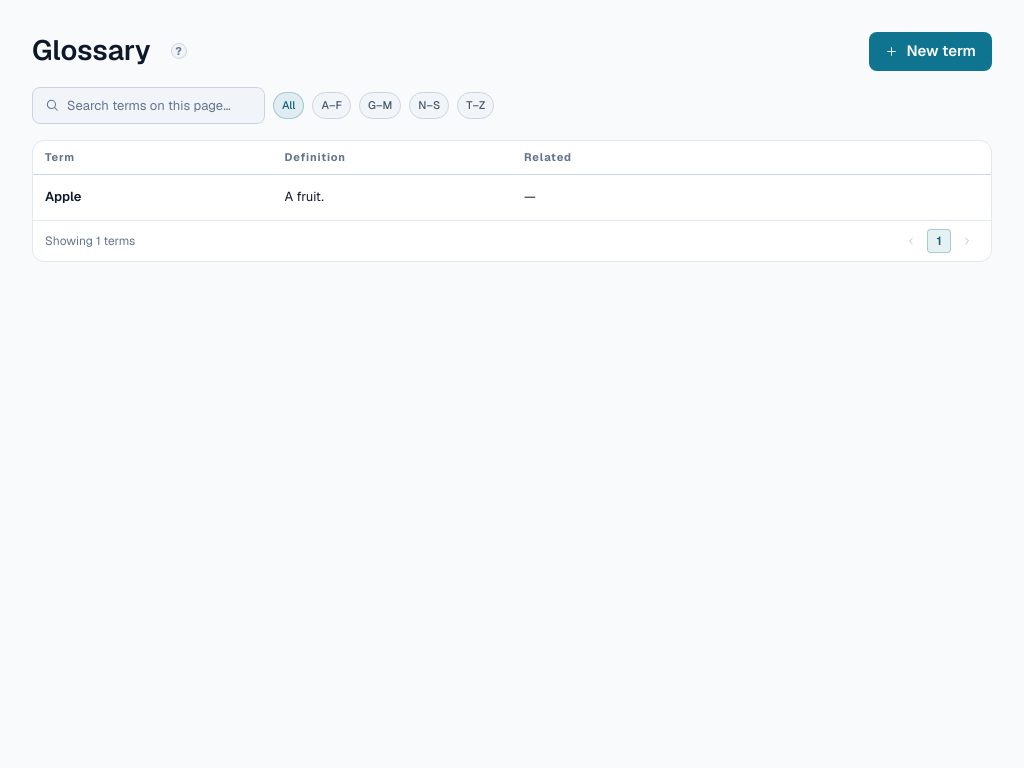
Test case: GlossaryPage › creates a new term via the drawer and shows a success toast (AC: real CE-WRITE-1 create)
The image size is (1024, 768).
Expected: the text "Apple" is shown, [45, 187, 81, 207]
Click the button "New term" at (931, 51), box [869, 32, 992, 70]
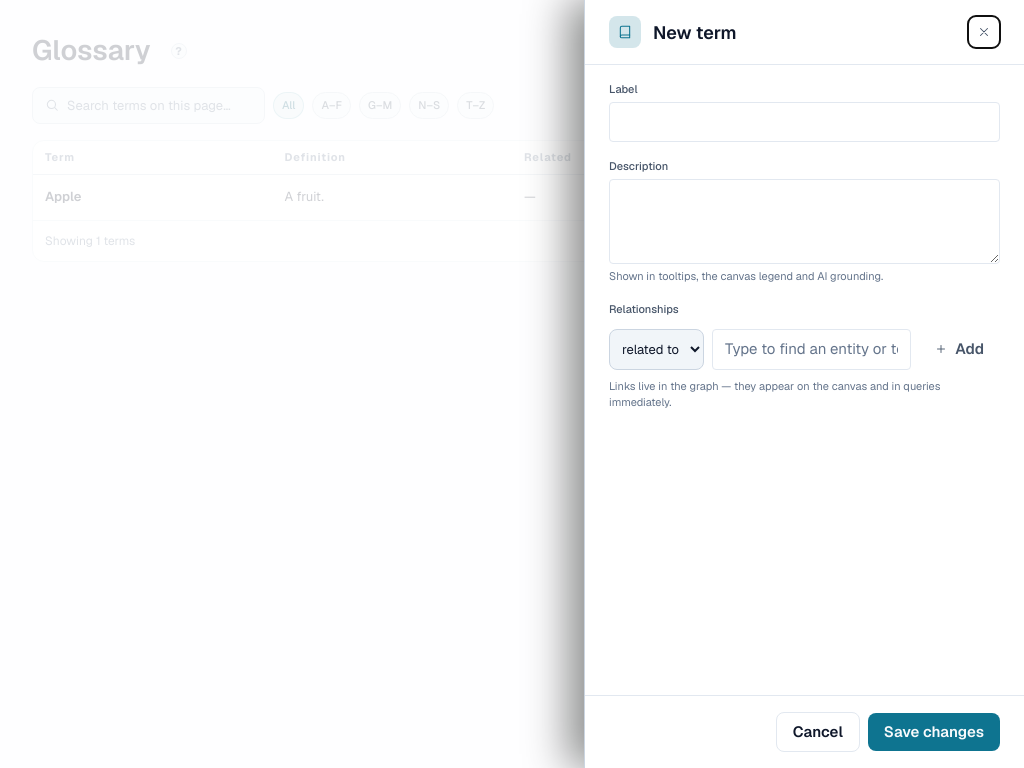
Type "Obligation" into the field labelled "Label" at (804, 122), box [609, 102, 1000, 142]
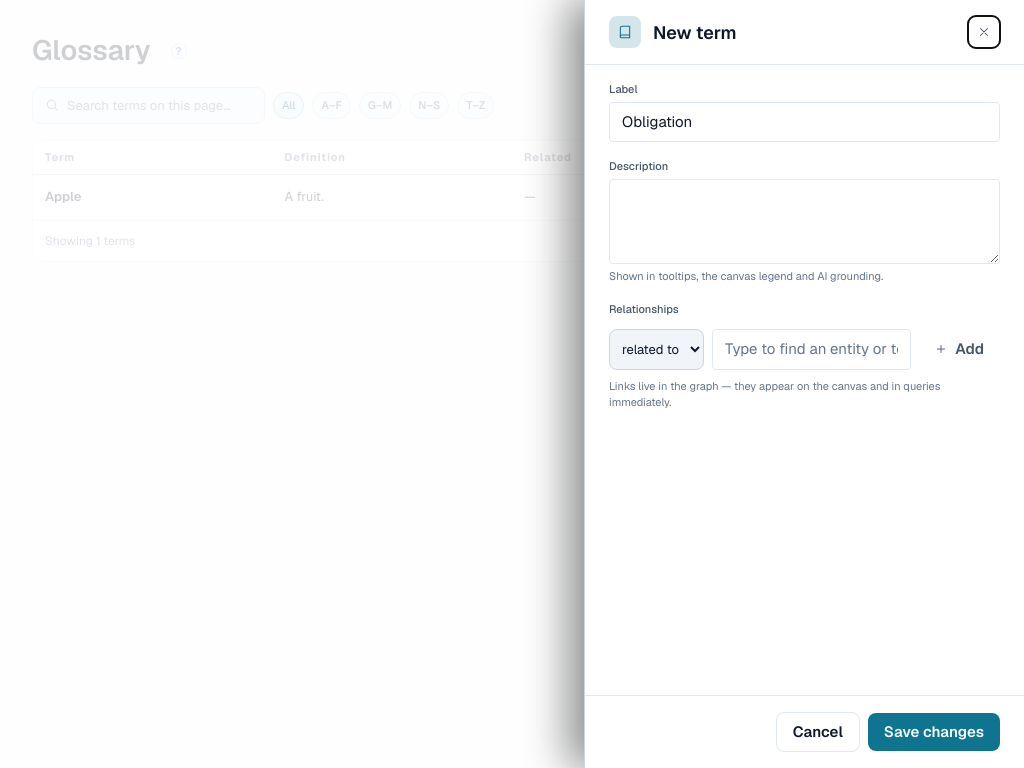
Type "A binding duty." into the text box labelled "Description" at (804, 221), box [609, 178, 1000, 264]
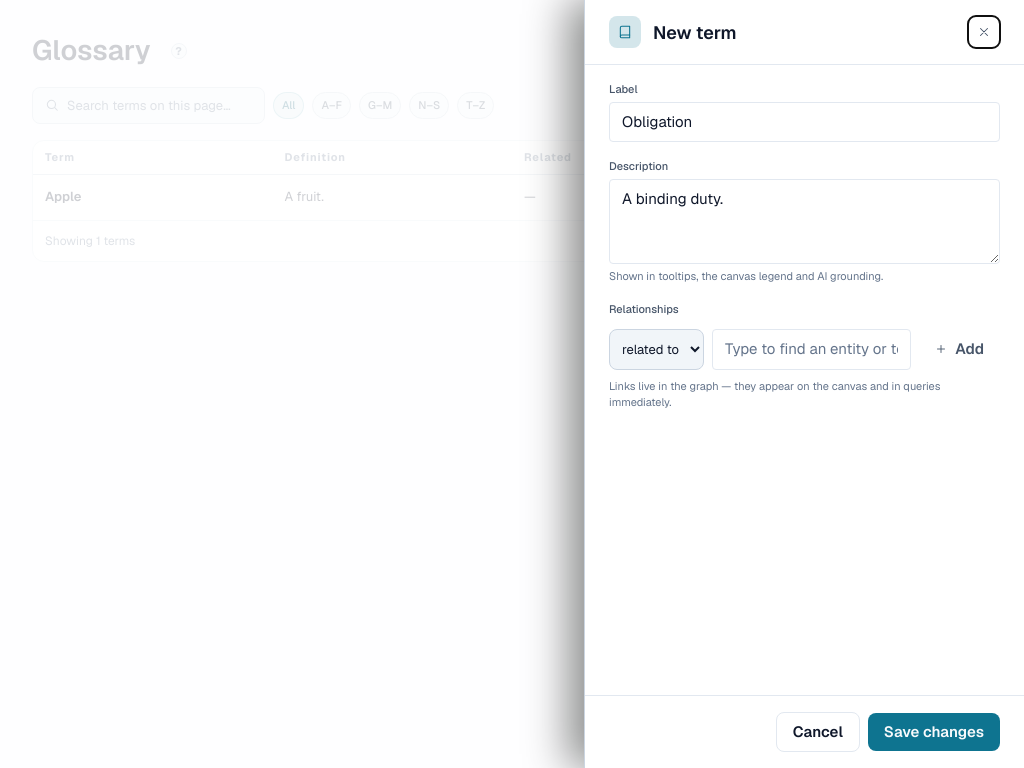
Click the button "Save changes" at (934, 732), box [868, 712, 1000, 751]
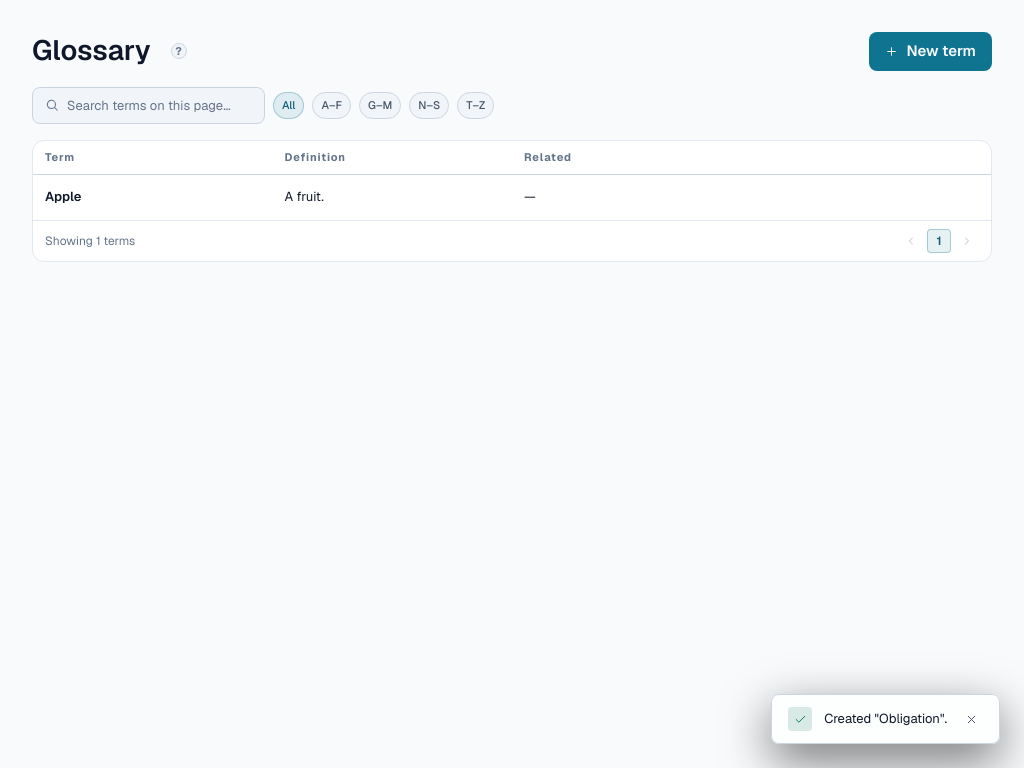
Expected: the text "Created \"Obligation\"." is shown, [824, 710, 947, 728]
